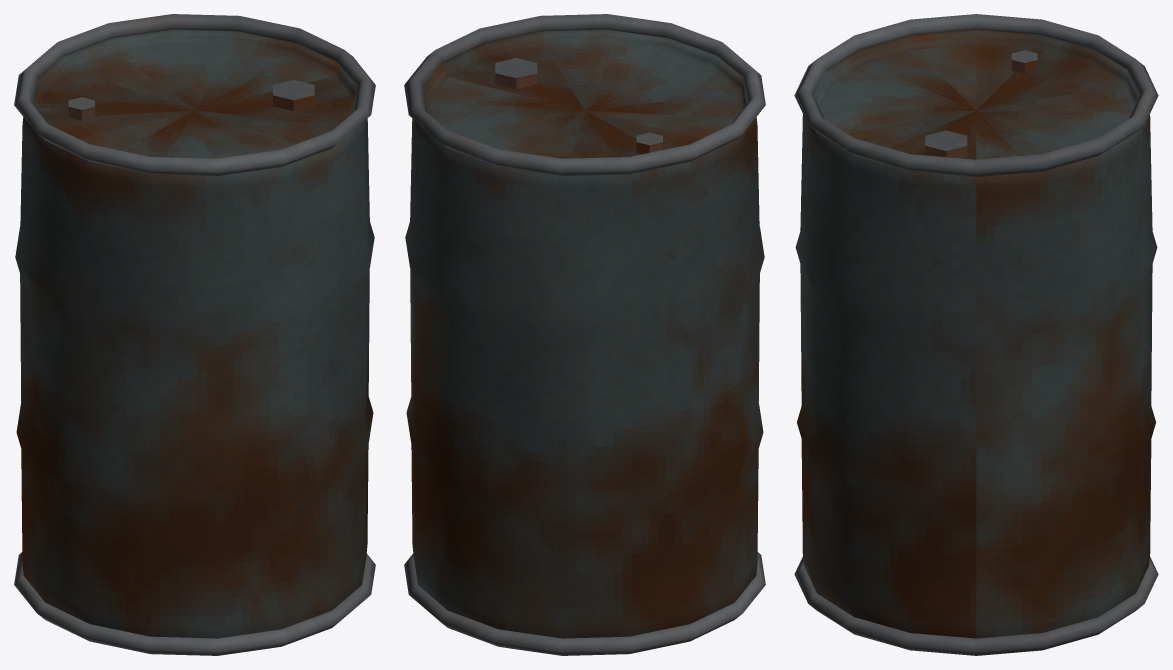
File: barrel.glb
3 views of the same model, side by side, from view 1: azimuth 30°, elevation 25°; view 2: azimuth 150°, elevation 25°; view 3: azimuth 270°, elevation 25° (orthographic).
Parts seen in each view (by area): view 1: barrel-col, detail; view 2: barrel-col, detail; view 3: barrel-col, detail.
Part boxes in pixels (bbox=[...]): barrel-col: bbox=[15, 29, 374, 638]; detail: bbox=[14, 14, 375, 655]; barrel-col: bbox=[405, 29, 764, 638]; detail: bbox=[404, 14, 765, 655]; barrel-col: bbox=[795, 29, 1157, 638]; detail: bbox=[794, 14, 1158, 655].
Bounding box in the file's own units: 0.604 × 0.908 × 0.604.
Materials: 2 (2 with a texture image).
